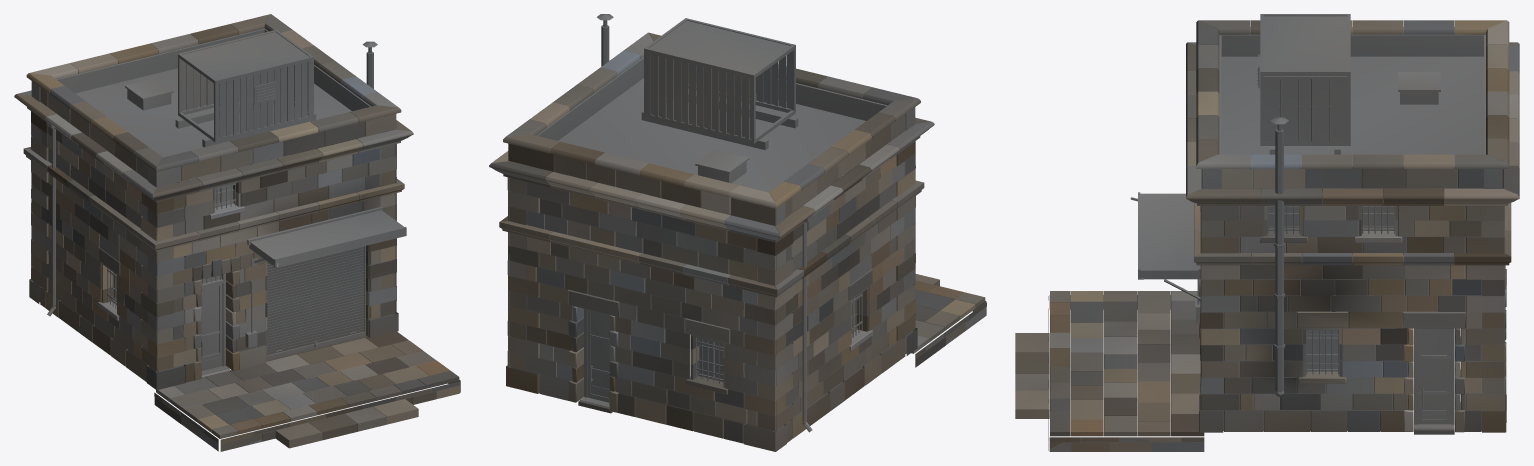
Rendered from Repairs_LOD1.glb.
The picture shows the model from 3 angles, left to right: view 1: azimuth 30°, elevation 25°; view 2: azimuth 150°, elevation 25°; view 3: azimuth 270°, elevation 25°; orthographic projection. The views are drawn at different scales.
Parts seen in each view (by area): view 1: Repairs_Masonry_LOD1, Repairs_Metal_LOD1, Repairs_Trim_LOD1, Repairs_Porch_LOD1, Repairs_Roof_LOD1, Repairs_Glass_LOD1; view 2: Repairs_Masonry_LOD1, Repairs_Trim_LOD1, Repairs_Metal_LOD1, Repairs_Roof_LOD1, Repairs_Porch_LOD1, Repairs_Glass_LOD1; view 3: Repairs_Masonry_LOD1, Repairs_Trim_LOD1, Repairs_Porch_LOD1, Repairs_Metal_LOD1, Repairs_Roof_LOD1, Repairs_Glass_LOD1.
Part boxes in pixels (x1=…): Repairs_Masonry_LOD1: x1=29, y1=28, x2=398, y2=389; Repairs_Metal_LOD1: x1=46, y1=29, x2=406, y2=375; Repairs_Trim_LOD1: x1=14, y1=14, x2=413, y2=380; Repairs_Porch_LOD1: x1=154, y1=331, x2=460, y2=451; Repairs_Roof_LOD1: x1=75, y1=68, x2=351, y2=157; Repairs_Glass_LOD1: x1=113, y1=83, x2=356, y2=356; Repairs_Masonry_LOD1: x1=506, y1=57, x2=917, y2=451; Repairs_Trim_LOD1: x1=489, y1=32, x2=934, y2=412; Repairs_Metal_LOD1: x1=580, y1=14, x2=862, y2=432; Repairs_Roof_LOD1: x1=558, y1=78, x2=865, y2=192; Repairs_Porch_LOD1: x1=578, y1=274, x2=986, y2=413; Repairs_Glass_LOD1: x1=699, y1=239, x2=855, y2=379; Repairs_Masonry_LOD1: x1=1199, y1=27, x2=1506, y2=432; Repairs_Trim_LOD1: x1=1186, y1=20, x2=1519, y2=432; Repairs_Porch_LOD1: x1=1015, y1=291, x2=1454, y2=451; Repairs_Metal_LOD1: x1=1130, y1=14, x2=1454, y2=428; Repairs_Roof_LOD1: x1=1221, y1=56, x2=1483, y2=158; Repairs_Glass_LOD1: x1=1258, y1=57, x2=1395, y2=368.
Bounding box in the file's own units: 8.5 × 8.86 × 11.73.
